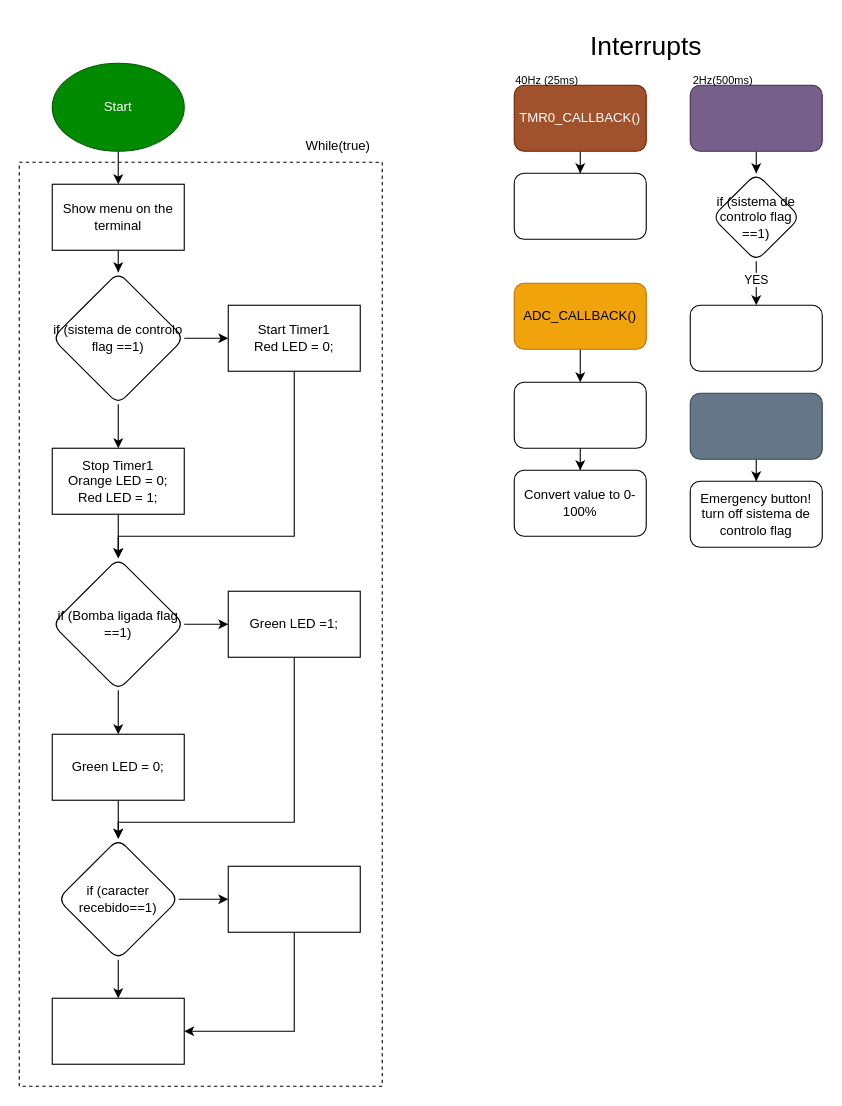
The diagram is 842 pixels wide and 1106 high, and some of its shapes have lost their labels. Here are the shapes that lost their labels. From the top down, the centre of each, then its label:
At (x=755, y=117): "TMR1_CALLBACK()".
At (x=579, y=205): "ADC START COVERSION on channel 0".
At (x=755, y=337): "Orange LED toggle()".
At (x=579, y=414): "Get conversion result from channel 0".
At (x=755, y=425): "INT0_CALLBACK()".
At (x=293, y=898): "Show the right menu in the terminal".
At (x=117, y=1030): "Check if USART have receive any character".
